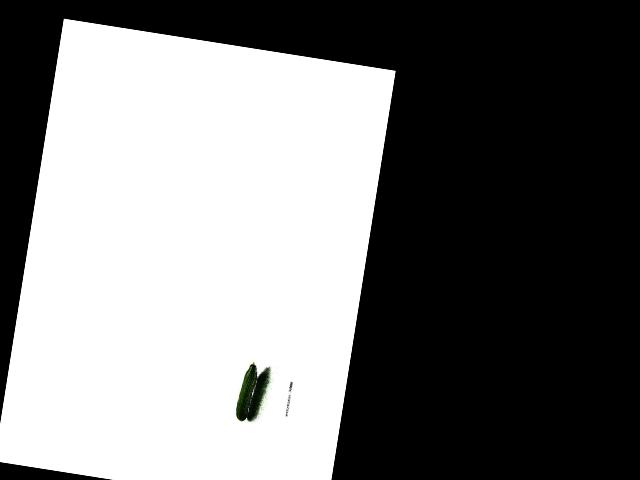cucumber: (234, 360, 259, 421)
